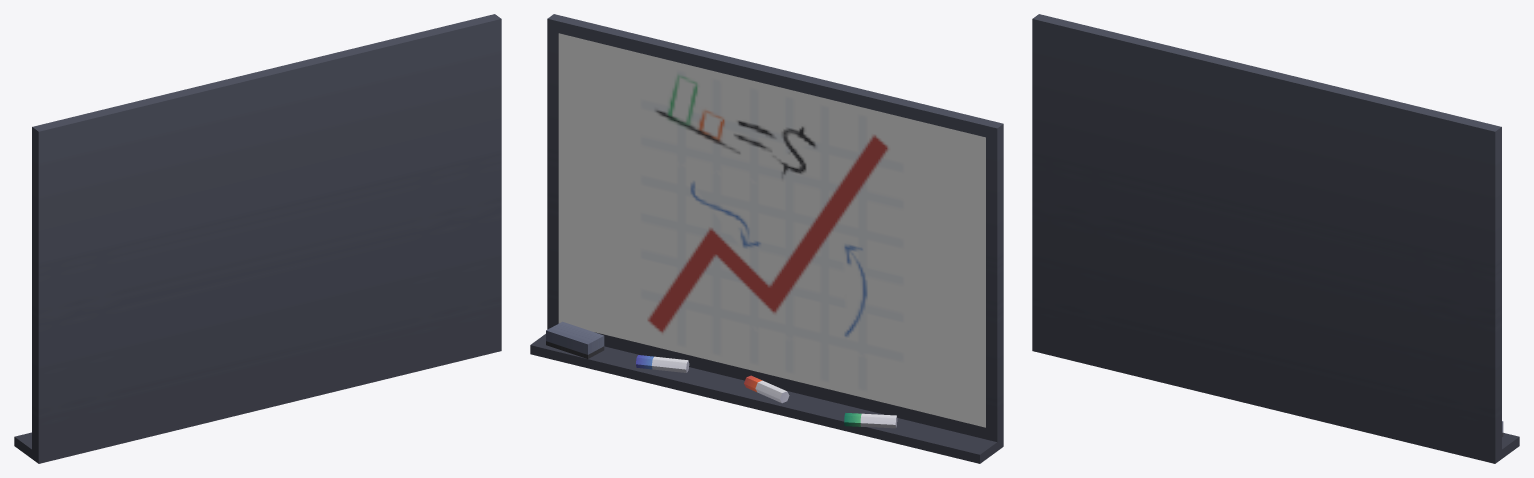
The model's file is whiteboard.fbx.
3 renders of one model, left to right at view 1: azimuth 30°, elevation 25°; view 2: azimuth 150°, elevation 25°; view 3: azimuth 330°, elevation 25°, orthographic. The views are drawn at different scales.
Parts seen in each view (by area): view 1: whiteboard; view 2: whiteboard; view 3: whiteboard.
Part boxes in pixels (bbox=[...]): whiteboard: bbox=[14, 14, 501, 463]; whiteboard: bbox=[530, 14, 1003, 463]; whiteboard: bbox=[1032, 14, 1519, 463].
Bounding box in the file's own units: 1.4 × 0.1576 × 0.9603.
